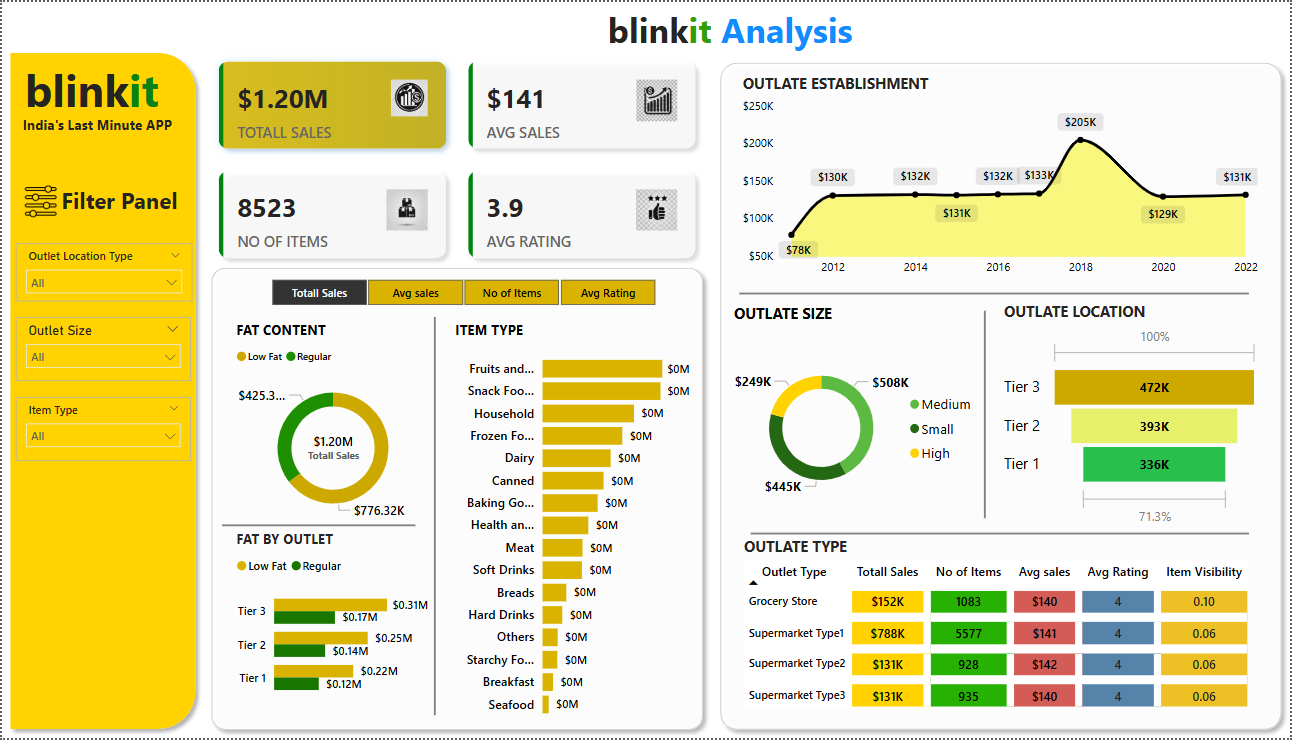

The page's visual inventory and layout, read from the dashboard file:
{"tool":"powerbi","page":{"name":"Page 1","canvas":[1400,800],"ordinal":0},"visuals":[{"type":"shape","box":[219.4,279.9,552.3,520.6],"z":0},{"type":"shape","box":[0,46.3,219.4,753.7],"z":1000},{"type":"textbox","box":[0,57.5,195.2,99.9],"z":2000},{"type":"cardVisual","fields":{"Data":["BlinkIT Grocery Data.Totall Sales","BlinkIT Grocery Data.Avg sales","BlinkIT Grocery Data.No of Items","BlinkIT Grocery Data.Avg Rating"]},"box":[219.4,46.9,552.3,248.2],"z":3000},{"type":"donutChart","title":"FAT CONTENT","fields":{"Y":["BlinkIT Grocery Data.Totall Sales"],"Category":["BlinkIT Grocery Data.Item Fat Content"]},"box":[250,346.9,220.3,229.7],"z":4000},{"type":"shape","box":[912.5,279.9,12.1,508.4],"z":5000},{"type":"slicer","fields":{"Values":["Metrics.Metrics"]},"box":[268.1,294.9,466.5,41.6],"z":6000},{"type":"cardVisual","fields":{"Data":["BlinkIT Grocery Data.Totall Sales"]},"box":[315.6,451.6,90.6,59.4],"z":7000},{"type":"clusteredBarChart","title":"FAT BY OUTLET","fields":{"Y":["BlinkIT Grocery Data.Totall Sales"],"Category":["BlinkIT Grocery Data.Outlet Location Type"],"Series":["BlinkIT Grocery Data.Item Fat Content"]},"box":[250.7,573.7,218.5,195.7],"z":8000},{"type":"barChart","title":"ITEM TYPE","fields":{"Y":["BlinkIT Grocery Data.Totall Sales"],"Category":["BlinkIT Grocery Data.Item Type"]},"box":[487.3,346.5,264.8,441.9],"z":9000},{"type":"shape","box":[771.7,57.5,628,743],"z":10000},{"type":"lineChart","title":"OUTLATE ESTABLISHMENT","fields":{"Y":["BlinkIT Grocery Data.Totall Sales"],"Category":["BlinkIT Grocery Data.Outlet Establishment Year"]},"box":[800,77.3,569.7,228.8],"z":11000},{"type":"donutChart","title":"OUTLATE SIZE","fields":{"Y":["BlinkIT Grocery Data.Totall Sales"],"Category":["BlinkIT Grocery Data.Outlet Size"]},"box":[791.4,326.9,276.9,249.7],"z":12000},{"type":"funnel","title":"OUTLATE LOCATION","fields":{"Y":["Sum(BlinkIT Grocery Data.Sales)"],"Category":["BlinkIT Grocery Data.Outlet Location Type"]},"box":[1083.6,324.6,286.9,250.8],"z":13000},{"type":"pivotTable","title":"OUTLATE TYPE","fields":{"Rows":["BlinkIT Grocery Data.Outlet Type"],"Values":["BlinkIT Grocery Data.Totall Sales","BlinkIT Grocery Data.No of Items","BlinkIT Grocery Data.Avg sales","BlinkIT Grocery Data.Avg Rating","Avg(BlinkIT Grocery Data.Item Visibility)"]},"box":[801.6,580.6,569.4,191.9],"z":14000},{"type":"slicer","fields":{"Values":["BlinkIT Grocery Data.Outlet Location Type"]},"box":[14.5,262.9,191.9,62.9],"z":15000},{"type":"slicer","fields":{"Values":["BlinkIT Grocery Data.Outlet Size"]},"box":[14.5,341.9,190.3,69.4],"z":16000},{"type":"slicer","fields":{"Values":["BlinkIT Grocery Data.Item Type"]},"box":[14.5,429,190.3,69.4],"z":17000},{"type":"textbox","box":[0,118,207.3,39.3],"z":18000},{"type":"textbox","box":[449.1,0,683.6,68.4],"z":19000},{"type":"image","box":[14.9,194.3,54.3,44.8],"z":20000},{"type":"textbox","box":[59.8,194.3,159,44.8],"z":21000},{"type":"shape","box":[814.1,428.2,541.7,299.6],"z":21001},{"type":"shape","box":[802,166.5,553.8,299.6],"z":21002},{"type":"shape","box":[918.5,335.9,299.6,225.5],"z":21003},{"type":"shape","box":[320.8,342,299.6,432.8],"z":21004},{"type":"shape","box":[239,521.5,210.1,94.2],"z":21005}]}

Visuals, with their boxes in screenshot pixels (x1, y1, x2, y2), scaled from the page's 1400x800 canvas onto the 1295x742 screenshot:
shape: (203,260,714,741)
shape: (0,43,203,741)
textbox: (0,53,181,146)
cardVisual - BlinkIT Grocery Data.Totall Sales x BlinkIT Grocery Data.Avg sales: (203,43,714,274)
"FAT CONTENT" donutChart: (231,322,435,535)
shape: (844,260,855,731)
slicer - Metrics.Metrics: (248,274,680,312)
cardVisual - BlinkIT Grocery Data.Totall Sales: (292,419,376,474)
"FAT BY OUTLET" clusteredBarChart: (232,532,434,714)
"ITEM TYPE" barChart: (451,321,696,731)
shape: (714,53,1294,741)
"OUTLATE ESTABLISHMENT" lineChart: (740,72,1267,284)
"OUTLATE SIZE" donutChart: (732,303,988,535)
"OUTLATE LOCATION" funnel: (1002,301,1268,534)
"OUTLATE TYPE" pivotTable: (741,539,1268,716)
slicer - BlinkIT Grocery Data.Outlet Location Type: (13,244,191,302)
slicer - BlinkIT Grocery Data.Outlet Size: (13,317,189,381)
slicer - BlinkIT Grocery Data.Item Type: (13,398,189,462)
textbox: (0,109,192,146)
textbox: (415,0,1048,63)
image: (14,180,64,222)
textbox: (55,180,202,222)
shape: (753,397,1254,675)
shape: (742,154,1254,432)
shape: (850,312,1127,521)
shape: (297,317,574,719)
shape: (221,484,415,571)
